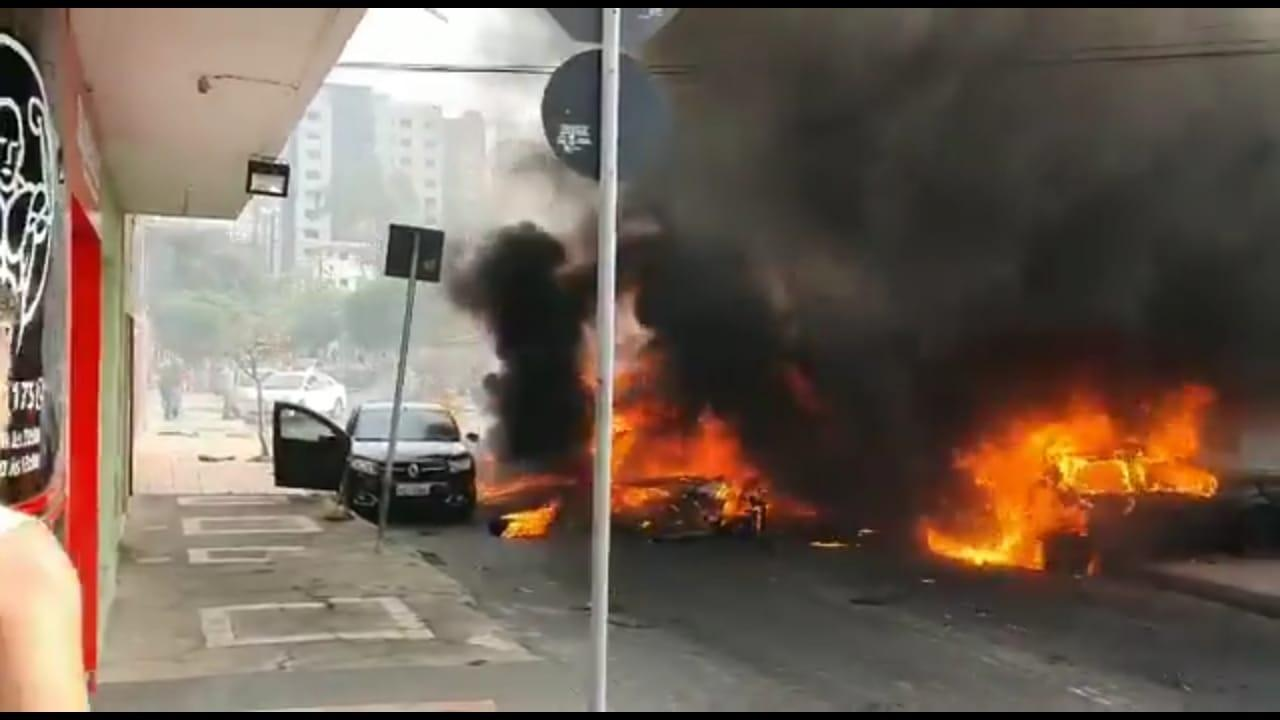Fire: (908, 387, 1235, 571), (598, 327, 757, 519), (505, 497, 557, 545)
